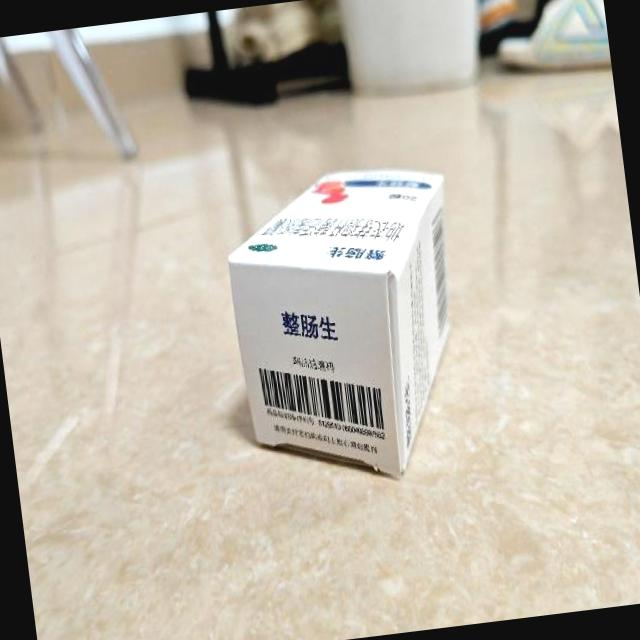box: (218, 157, 480, 492)
